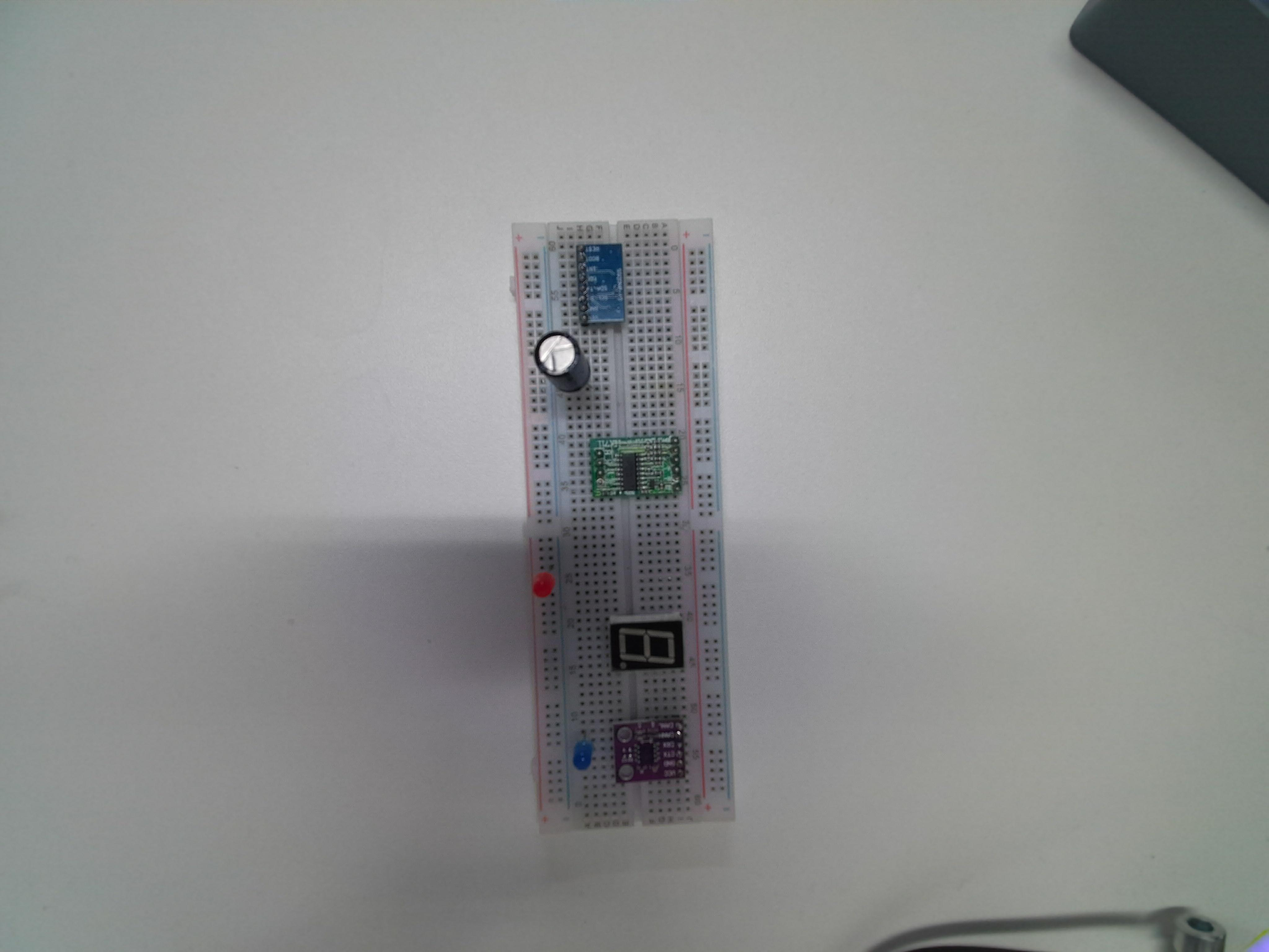base: (507, 218, 734, 840)
blue-board: (572, 240, 629, 331)
blue-led: (567, 739, 597, 776)
capacitor: (531, 332, 594, 400)
digit-board: (607, 615, 687, 676)
green-board: (582, 437, 686, 499)
purple-board: (609, 719, 687, 784)
red-led: (530, 566, 555, 604)
